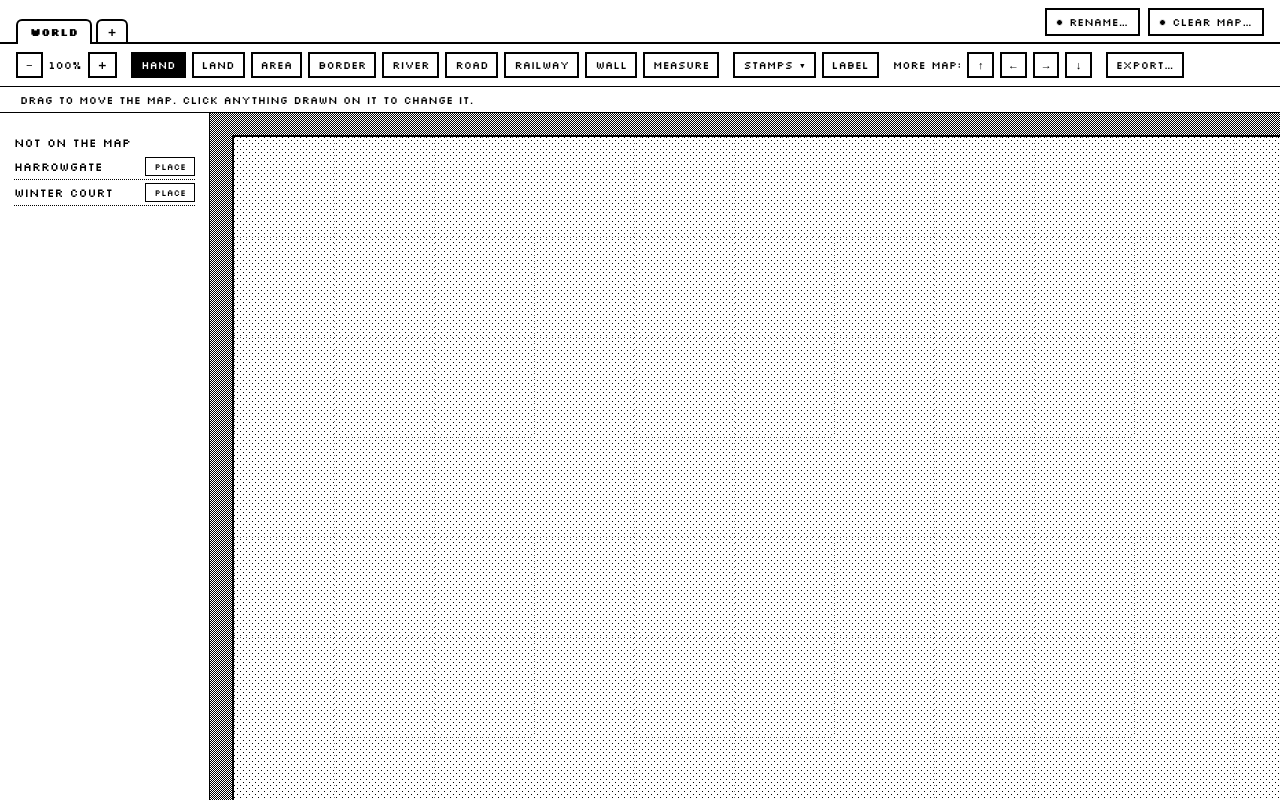
Scenario: the tabs › says so, rather than offering to clear, when nothing is drawn
Click the button "Clear Map…" at (1206, 22), box [1148,8,1264,36]
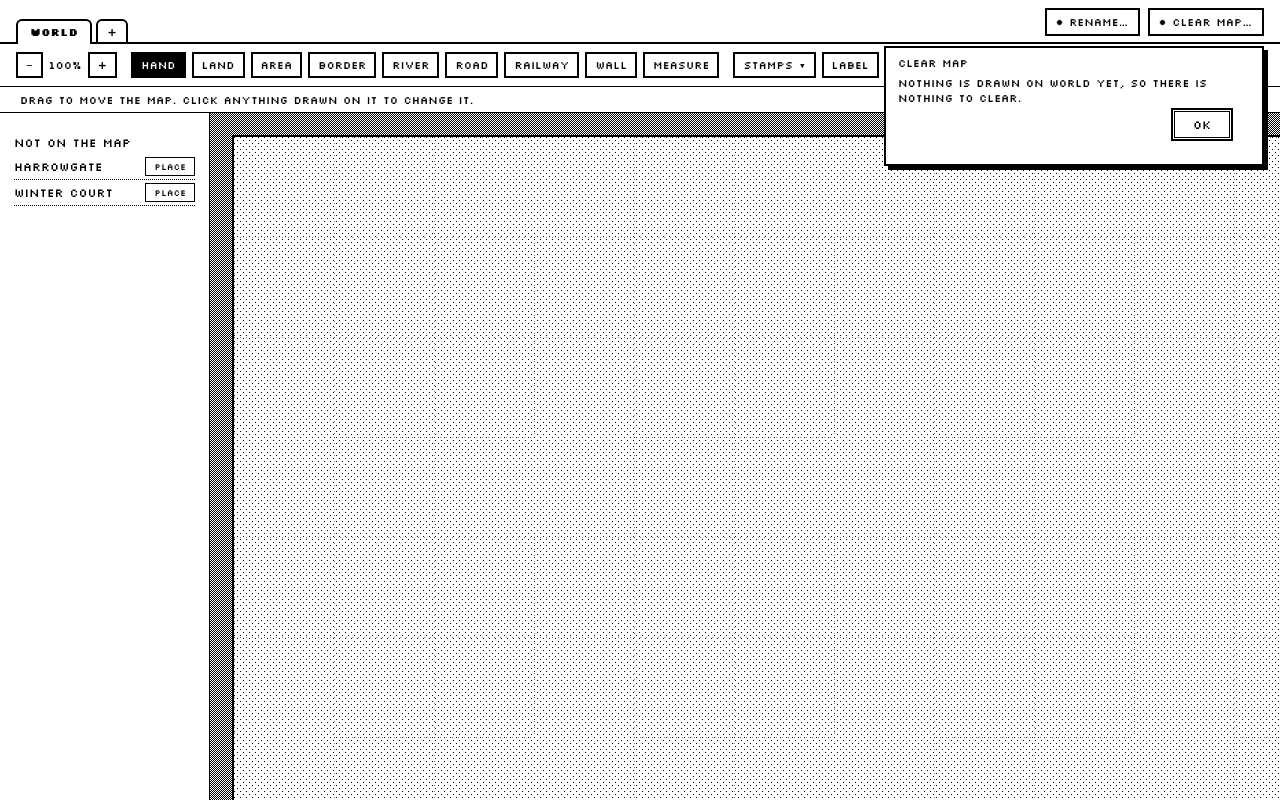
Expected: the dialog shows "Nothing is drawn on World yet", [898,76,1207,105]
